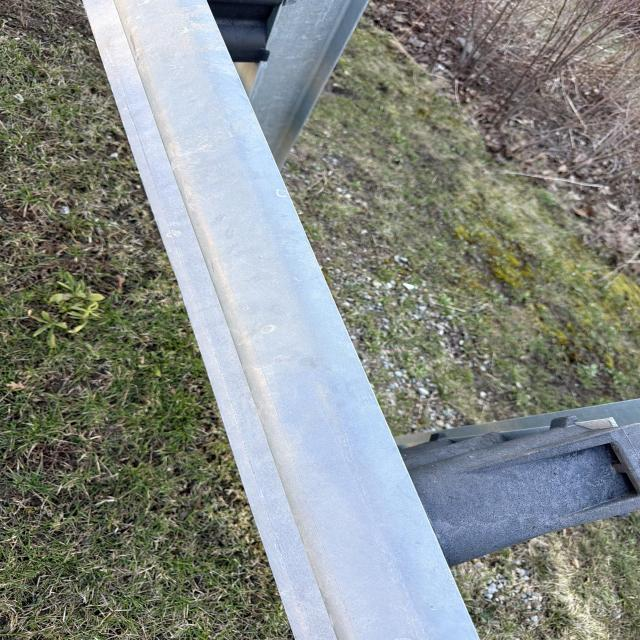Guard rail: (80, 7, 616, 547), (388, 402, 638, 559)
